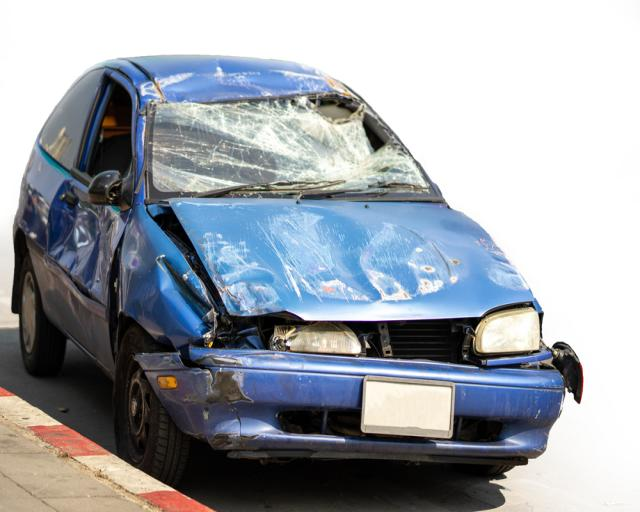crack: (176, 346, 214, 385), (232, 403, 243, 433)
dent: (45, 181, 115, 302), (158, 254, 213, 329)
glass shatter: (148, 92, 429, 193)
lamp broken: (265, 319, 362, 357)
scratch: (262, 203, 463, 307), (135, 68, 361, 105), (199, 228, 281, 315), (195, 353, 254, 404), (483, 236, 530, 295), (211, 431, 261, 449)
